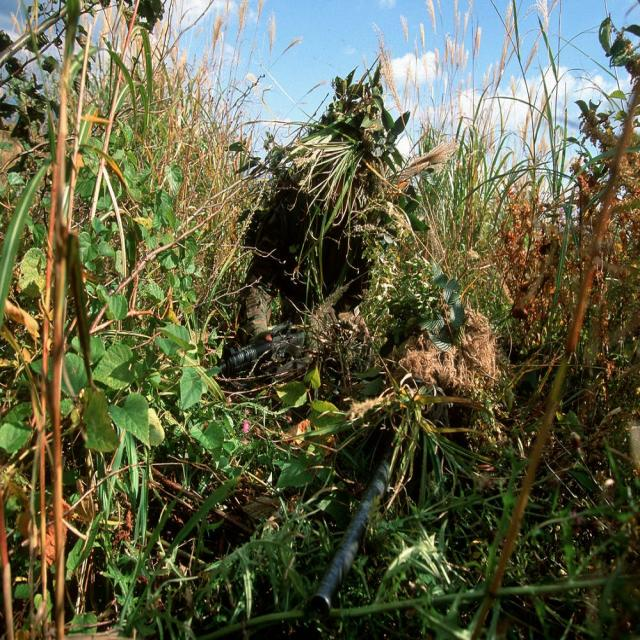Camouflage: (216, 68, 494, 614)
